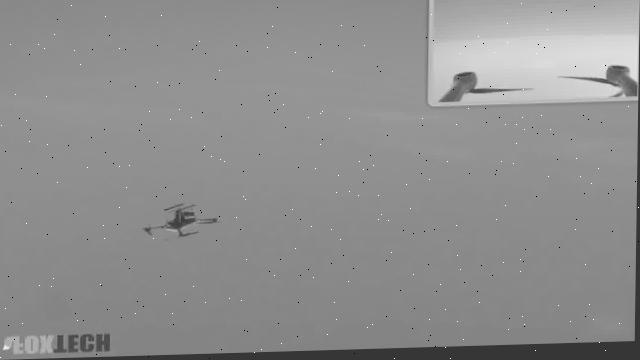drone: (117, 158, 246, 286)
